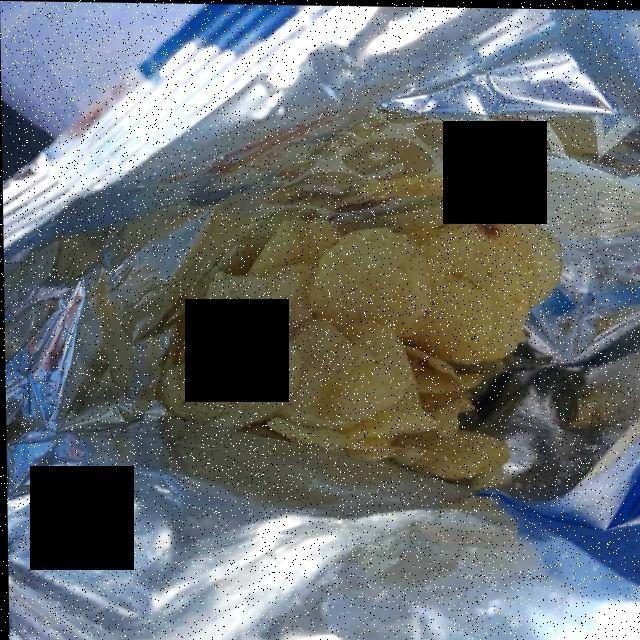crisps: (160, 204, 554, 479)
